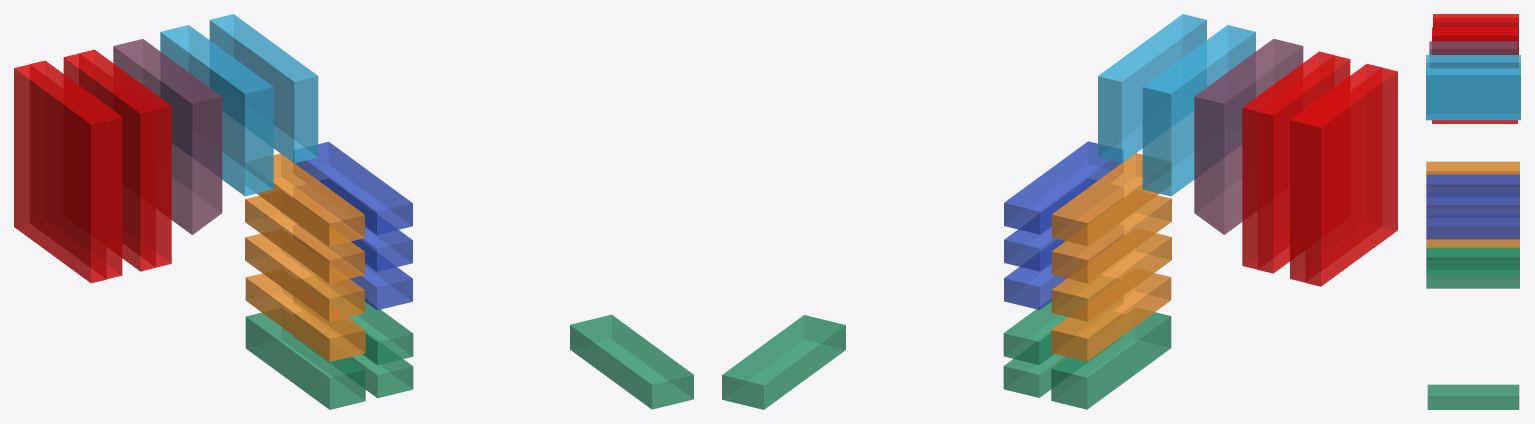
The picture shows the model from 3 angles, left to right: view 1: azimuth 30°, elevation 25°; view 2: azimuth 150°, elevation 25°; view 3: azimuth 270°, elevation 25°; orthographic projection. The views are drawn at different scales.
Parts seen in each view (by area): view 1: SketchUp (×16); view 2: SketchUp (×16); view 3: SketchUp (×13).
Part boxes in pixels (x1,y1,x2,y2): SketchUp (×16): [14, 14, 693, 409]; SketchUp (×16): [722, 14, 1397, 409]; SketchUp (×13): [1426, 14, 1520, 409].
Bounding box in the file's own units: 10.9 × 2.68 × 7.27.
